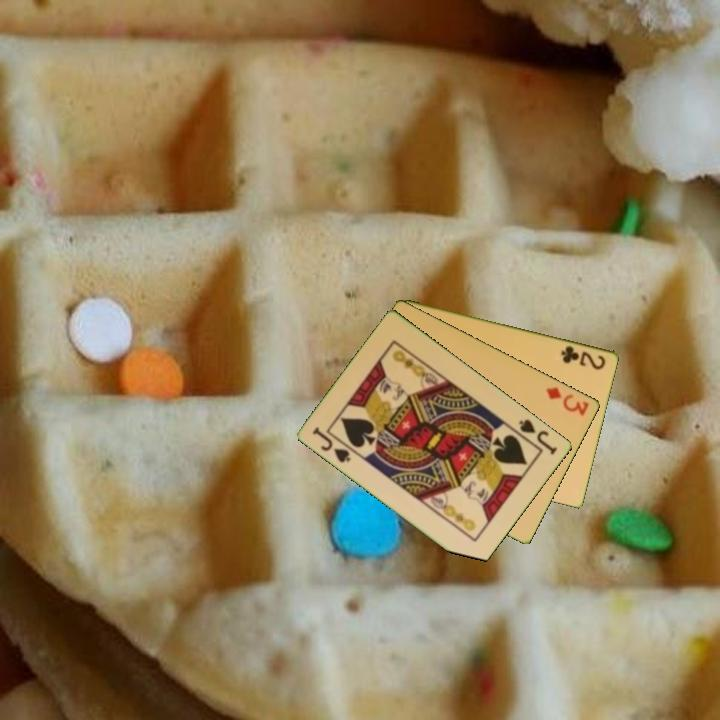2c: (558, 342, 609, 372)
3d: (542, 383, 592, 418)
Js: (309, 423, 359, 466), (515, 415, 560, 458)
